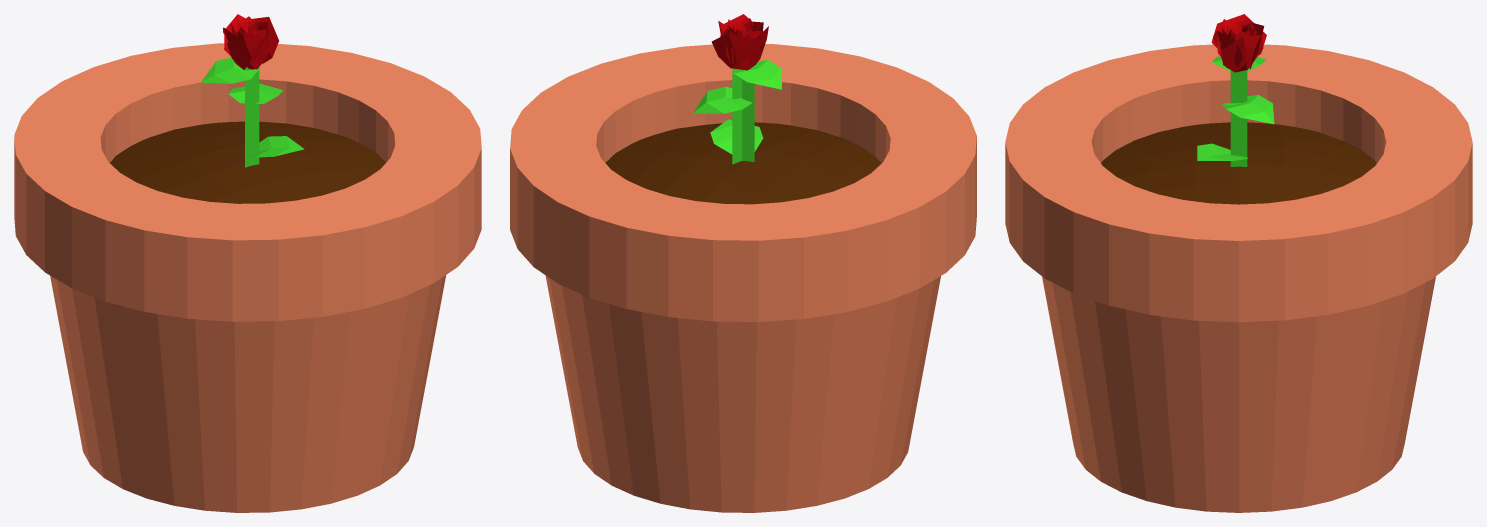
File: plants.fbx
The picture shows the model from 3 angles, left to right: view 1: azimuth 30°, elevation 25°; view 2: azimuth 150°, elevation 25°; view 3: azimuth 270°, elevation 25°; orthographic projection.
Parts seen in each view (by area): view 1: Pot, Dirt, Flower 3, Flower 3 leaves, Sapling 2; view 2: Pot, Dirt, Flower 3, Flower 3 leaves, Sapling 2; view 3: Pot, Dirt, Flower 3, Flower 3 leaves.
Part boxes in pixels (bbox=[...]): Pot: bbox=[14, 43, 481, 512]; Dirt: bbox=[110, 121, 385, 203]; Flower 3: bbox=[201, 57, 304, 167]; Flower 3 leaves: bbox=[223, 14, 278, 69]; Sapling 2: bbox=[245, 70, 259, 157]; Pot: bbox=[510, 44, 976, 512]; Dirt: bbox=[605, 122, 881, 204]; Flower 3: bbox=[693, 60, 781, 164]; Flower 3 leaves: bbox=[711, 14, 768, 70]; Sapling 2: bbox=[732, 76, 754, 154]; Pot: bbox=[1005, 44, 1472, 512]; Dirt: bbox=[1101, 122, 1376, 204]; Flower 3: bbox=[1197, 56, 1274, 166]; Flower 3 leaves: bbox=[1211, 14, 1266, 72].
Size of the model in its own units: 319 by 315 by 319.
